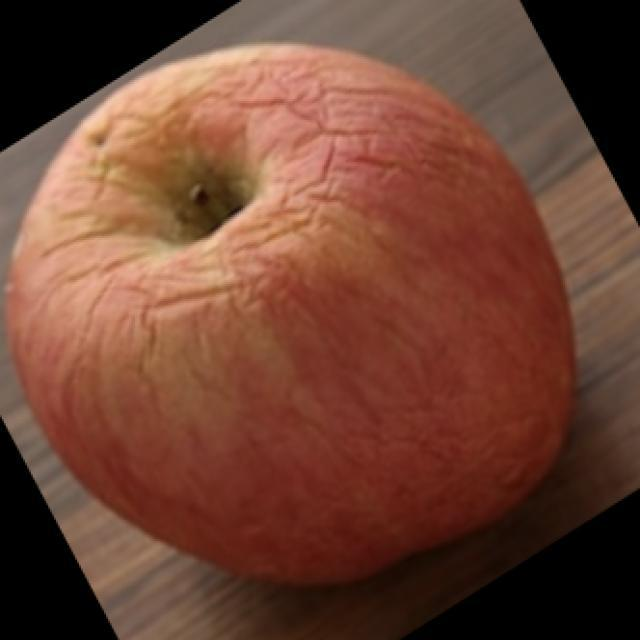Rotten: (27, 63, 560, 557)
